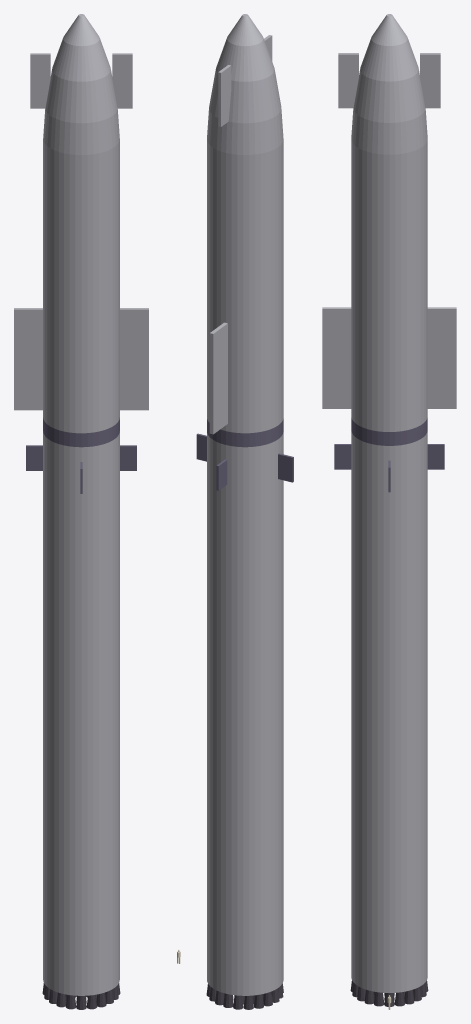
File: starship.obj
The picture shows the model from 3 angles, left to right: view 1: azimuth 90°, elevation 25°; view 2: azimuth 150°, elevation 25°; view 3: azimuth 270°, elevation 25°; orthographic projection.
Visible parts, largest first — view 1: booster, ship, nose, aft_flaps, forward_flaps, hot_stage_ring, booster_engines, grid_fins; view 2: booster, ship, nose, aft_flaps, booster_engines, hot_stage_ring, grid_fins, forward_flaps; view 3: booster, ship, nose, aft_flaps, forward_flaps, hot_stage_ring, booster_engines, grid_fins.
Boxes of the visible parts, bbox=[...] form: booster: bbox=[43, 431, 119, 995]; ship: bbox=[43, 139, 119, 433]; nose: bbox=[43, 14, 119, 154]; aft_flaps: bbox=[14, 308, 148, 410]; forward_flaps: bbox=[30, 53, 132, 108]; hot_stage_ring: bbox=[43, 417, 119, 447]; booster_engines: bbox=[42, 983, 120, 1009]; grid_fins: bbox=[26, 445, 136, 493]; booster: bbox=[207, 432, 283, 995]; ship: bbox=[207, 140, 283, 433]; nose: bbox=[207, 14, 283, 154]; aft_flaps: bbox=[209, 322, 227, 434]; booster_engines: bbox=[206, 983, 283, 1009]; hot_stage_ring: bbox=[207, 418, 283, 447]; grid_fins: bbox=[196, 433, 293, 490]; forward_flaps: bbox=[218, 35, 272, 126]; booster: bbox=[351, 431, 427, 992]; ship: bbox=[351, 140, 427, 431]; nose: bbox=[351, 14, 427, 154]; aft_flaps: bbox=[322, 307, 456, 408]; forward_flaps: bbox=[338, 53, 440, 108]; hot_stage_ring: bbox=[351, 417, 427, 445]; booster_engines: bbox=[350, 980, 428, 1006]; grid_fins: bbox=[334, 444, 444, 492].
Bounding box in the file's own units: 15.71 × 127 × 15.8.
